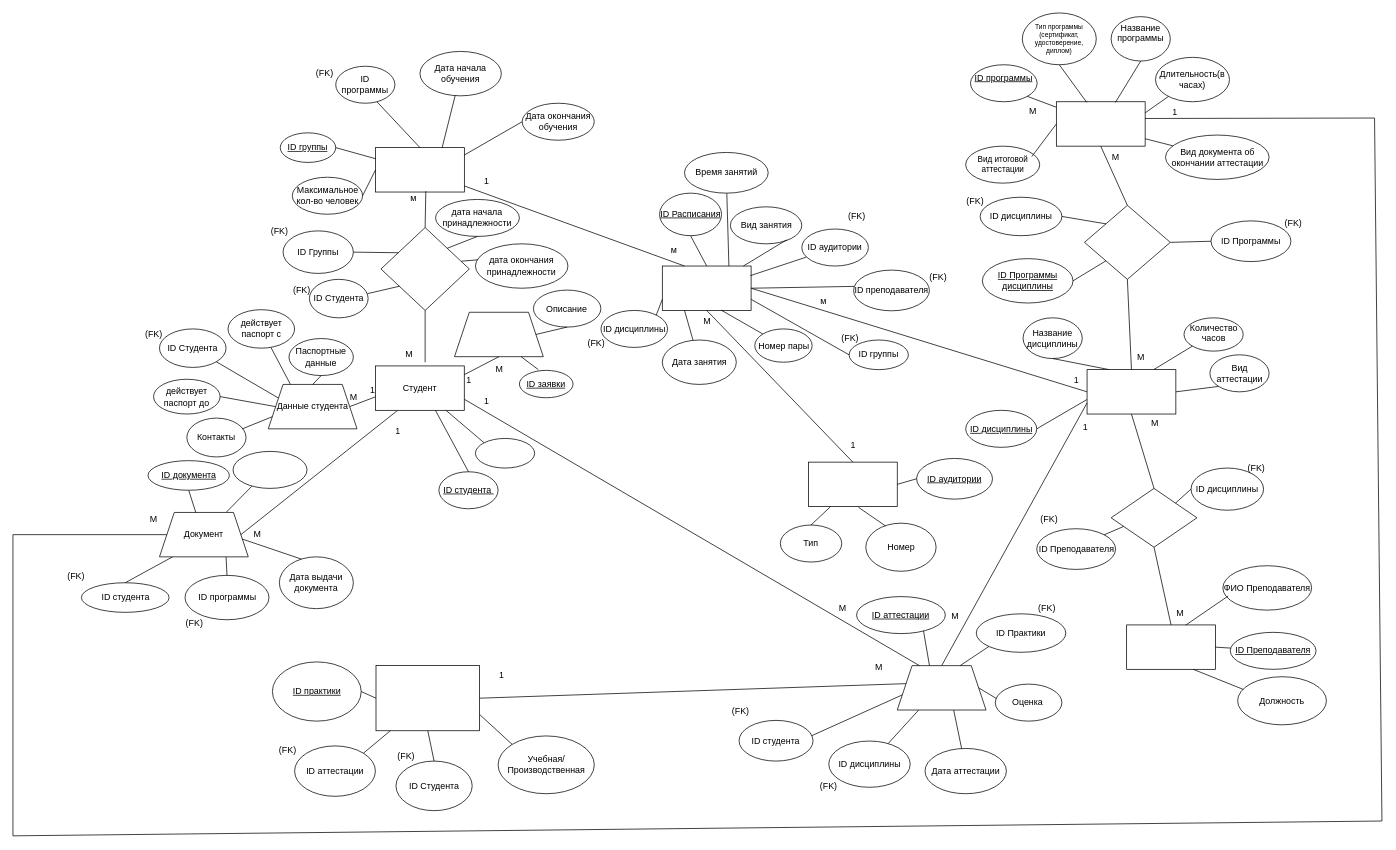
The diagram is 1396 pixels wide and 850 high, and some of its shapes have lost their labels. Here are the shapes that lost their labels. From the top down, the centre of each, then its label:
At pixel 1100 123: "Программа".
At pixel 419 169: "Группа".
At pixel 1127 242: "Программа дисциплины".
At pixel 424 268: "Студент в группе".
At pixel 706 287: "Расписание".
At pixel 498 334: "Заявка на изменение данных".
At pixel 1131 391: "Дисциплина".
At pixel 269 469: "Тип документа".
At pixel 505 453: "ФИО студента".
At pixel 852 484: "Аудитории".
At pixel 1153 517: "Ведение дисциплины".
At pixel 1170 646: "Преподаватель".
At pixel 427 698: "Практика".
At pixel 941 687: "Аттестация".
